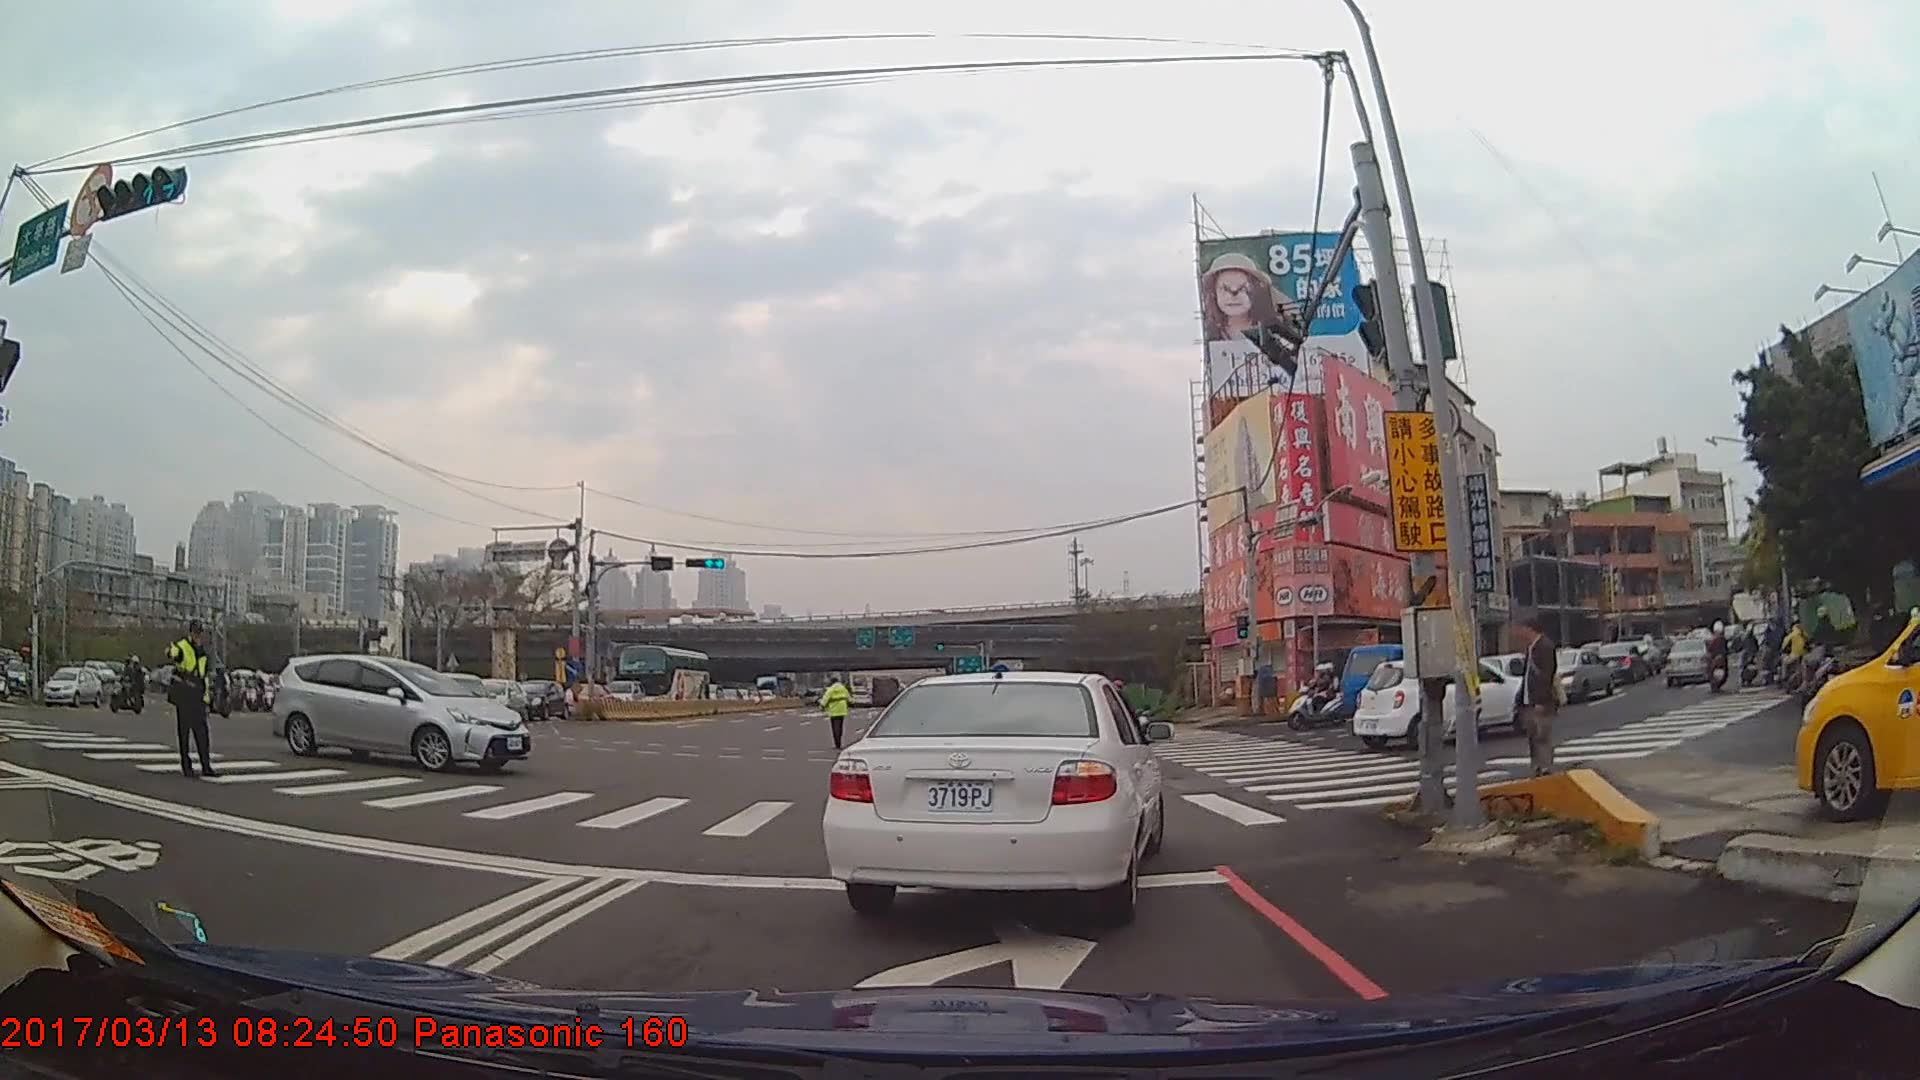pedestrian: (1513, 618, 1568, 779), (163, 618, 219, 778), (820, 673, 852, 754)
rider: (1792, 606, 1843, 699), (1289, 663, 1345, 734), (1778, 614, 1814, 696), (109, 653, 148, 716), (1764, 619, 1795, 694), (1707, 623, 1733, 696), (203, 667, 233, 718), (1738, 626, 1761, 690)
vehicle: (823, 670, 1165, 924), (272, 653, 533, 774), (1793, 610, 1920, 824), (1352, 653, 1540, 753), (615, 642, 710, 709), (1541, 648, 1614, 704), (1661, 635, 1715, 690), (37, 662, 100, 706), (513, 677, 568, 719), (1592, 642, 1646, 683)
